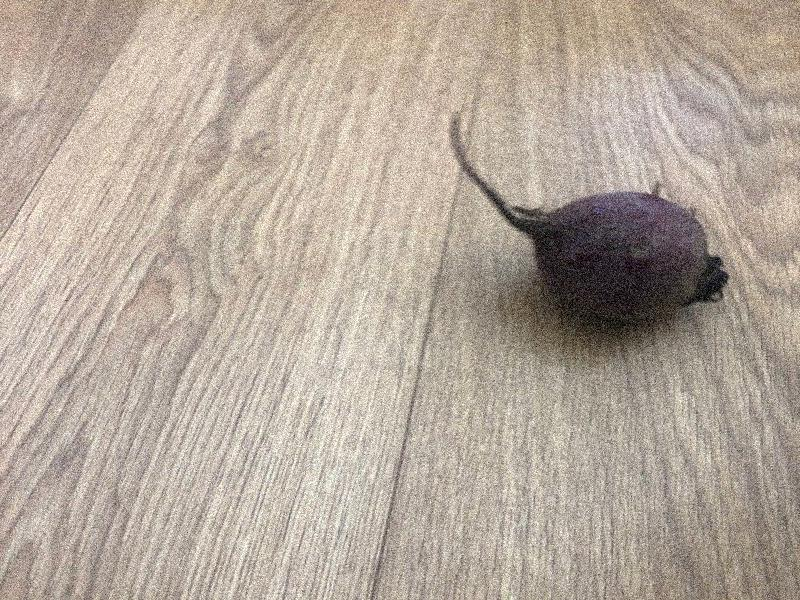Beet: (444, 112, 723, 321)
